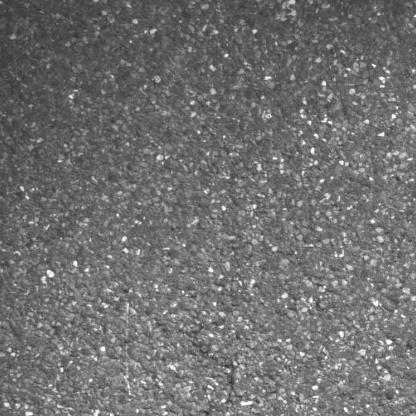Cracks: (180, 330, 242, 416)
